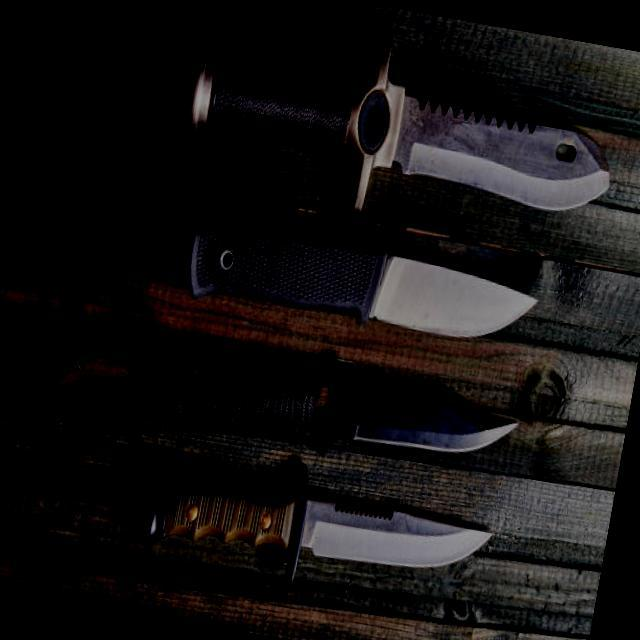Knife: (141, 0, 633, 262), (132, 297, 534, 495), (107, 430, 510, 620), (163, 180, 551, 362)
